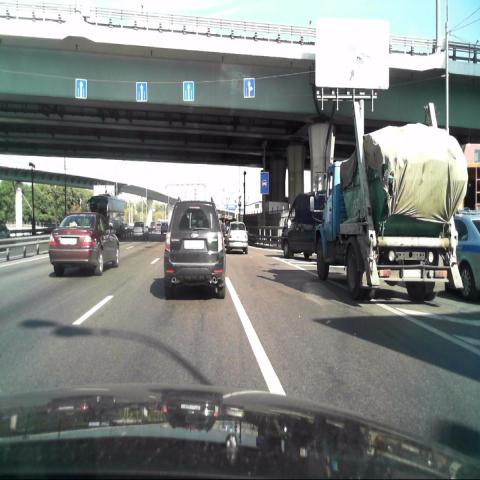5_15_2: (244, 76, 255, 99)
5_3: (260, 170, 270, 195)
